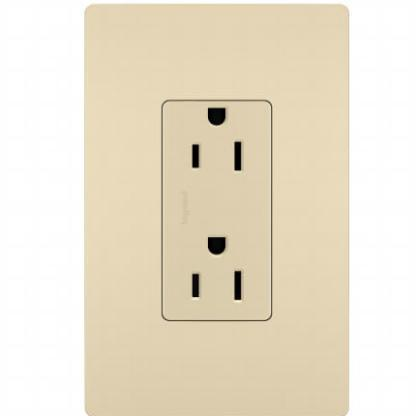OUTLET: (84, 4, 348, 415)
